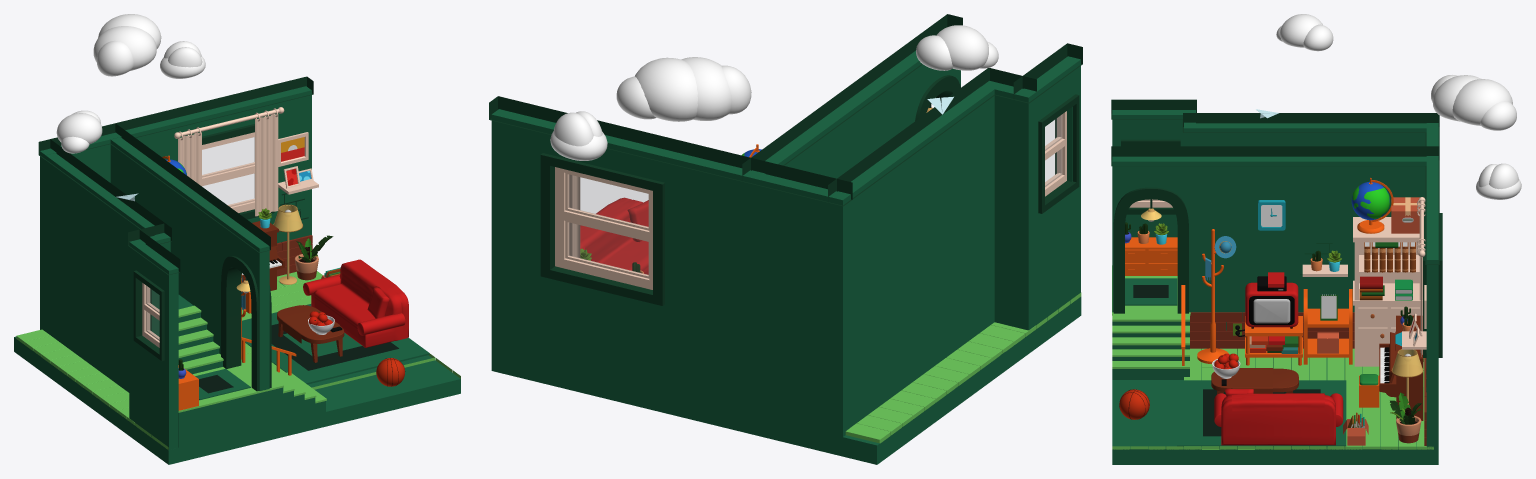
The model's file is livingroom.obj.
3 views of the same model, side by side, from view 1: azimuth 30°, elevation 25°; view 2: azimuth 150°, elevation 25°; view 3: azimuth 270°, elevation 25° (orthographic). The views are drawn at different scales.
Parts seen in each view (by area): view 1: 平面.002, 平面.003, 平面.010, 平面.001, 平面.005, 立方体.007, 平面, 立方体.011, 平面.004, 平面.011, 平面.075, 平面.019 (+32 smaller); view 2: 平面.001, 平面.002, 平面.007, 平面.010, 平面.003, 平面.005, 平面, 平面.014, 立方体.051, 平面.075, 平面.073, 球体.012 (+16 smaller); view 3: 平面.003, 平面.010, 平面, 平面.002, 立方体.004, 平面.001, 立方体.011, 平面.073, 平面.004, 平面.027, 平面.005, 平面.074 (+46 smaller).
Boxes of the visible parts, x1,y1,x2,y2 form: 平面.002: (45,153,169,392); 平面.003: (110,137,269,390); 平面.010: (14,283,460,464); 平面.001: (40,86,311,331); 平面.005: (132,241,178,449); 立方体.007: (178,387,325,451); 平面: (16,271,460,449); 立方体.011: (242,304,429,384); 平面.004: (221,256,271,391); 平面.011: (314,259,403,338); 平面.075: (39,76,313,159); 平面.019: (255,113,278,216); 平面.001: (491,109,850,444); 平面.002: (838,81,1001,427); 平面.007: (982,81,1032,330); 平面.010: (491,297,1081,464); 平面.003: (752,50,960,178); 平面.005: (1019,56,1080,327); 平面: (845,292,1081,443); 平面.014: (540,153,664,305); 立方体.051: (555,167,652,289); 平面.075: (489,96,852,205); 平面.073: (742,14,962,185); 球体.012: (635,57,697,121); 平面.003: (1112,156,1426,350); 平面.010: (1112,351,1438,464); 平面: (1112,348,1433,449); 平面.002: (1184,123,1426,146); 立方体.004: (1221,395,1335,445); 平面.001: (1426,123,1438,455); 立方体.011: (1177,380,1346,446); 平面.073: (1111,146,1439,166); 平面.004: (1113,187,1188,313); 平面.027: (1112,314,1189,368); 平面.005: (1112,110,1190,237); 平面.074: (1183,113,1439,132).
Bounding box in the file's own units: 10.52 × 8.85 × 10.89.
